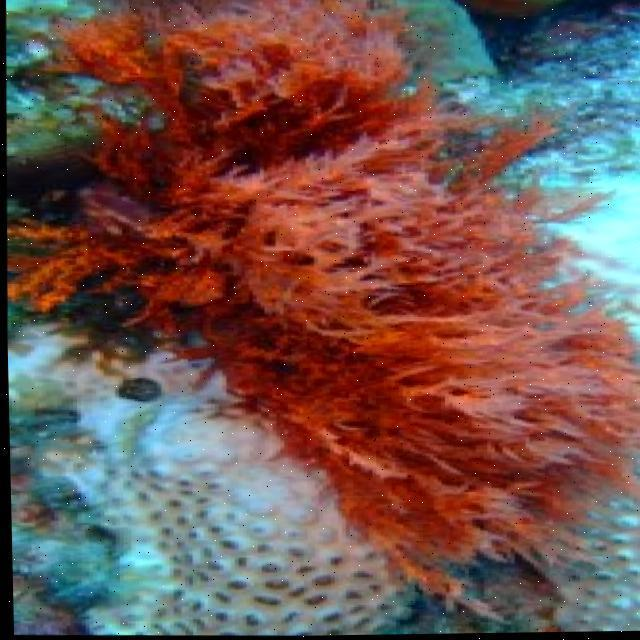Bleached Coral: (8, 433, 362, 640)
